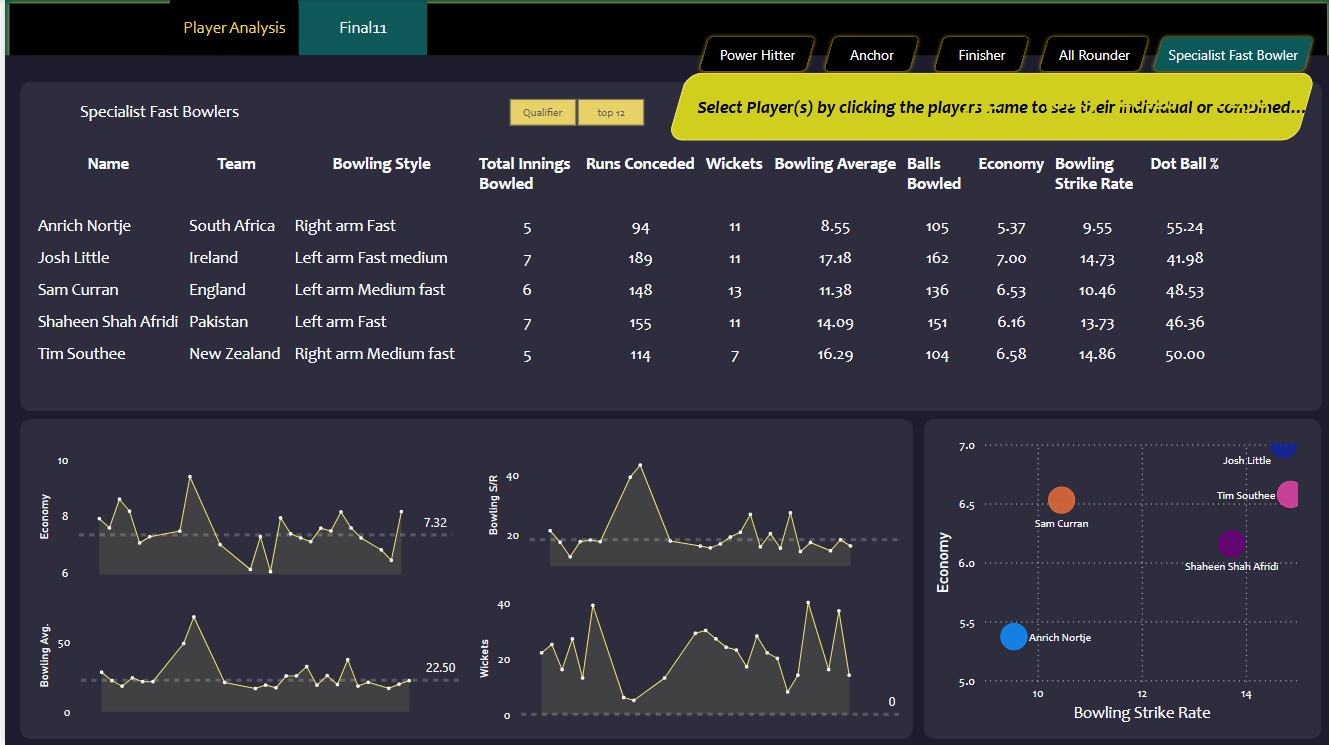

The page's visual inventory and layout, read from the dashboard file:
{"tool":"powerbi","page":{"name":"New Specialist Fast Bowler/Tail end","canvas":[1280,720],"ordinal":4},"visuals":[{"type":"shape","box":[0,0,1280,76],"z":0},{"type":"shape","box":[0,54.3,1280,666.4],"z":1000},{"type":"shape","box":[0,79.3,1280,318.6],"z":2000},{"type":"shape","box":[13.9,79.3,1257.7,318.6],"z":3000},{"type":"shape","box":[887.1,405.1,384,308.9],"z":4000},{"type":"shape","box":[640,71,626.1,65.4],"z":5000},{"type":"slicer","fields":{"Values":["match result.state"]},"box":[460.5,89,180,40],"z":10000},{"type":"shape","box":[72.3,89,173.9,39],"z":11000},{"type":"shape","box":[666.4,86.3,194.8,44.5],"z":12000},{"type":"shape","box":[13.9,404.9,862,308.9],"z":13000},{"type":"areaChart","fields":{"Y":["Key_Measure.Wickets"],"Category":["match result.matchDate.Variation.Date Hierarchy.Day"]},"box":[452.8,566.7,417.2,137.2],"z":14000},{"type":"areaChart","fields":{"Category":["match result.matchDate.Variation.Date Hierarchy.Day"],"Y":["Key_Measure.Bowling Strike Rate"]},"box":[460.5,416,409,136.3],"z":15000},{"type":"areaChart","fields":{"Category":["match result.matchDate.Variation.Date Hierarchy.Day"],"Y":["Key_Measure.Economy"]},"box":[27.4,430.9,408.9,135.8],"z":16000},{"type":"areaChart","fields":{"Category":["match result.matchDate.Variation.Date Hierarchy.Day"],"Y":["Key_Measure.Bowling Average"]},"box":[27.8,566.3,417.4,136.3],"z":17000},{"type":"actionButton","box":[159.3,0,124.3,54.3],"z":18000},{"type":"actionButton","box":[283.5,0,124.3,54.3],"z":19000},{"type":"actionButton","box":[666,32.6,120.6,41],"z":20000},{"type":"actionButton","box":[892.8,32.6,100.1,41],"z":21000},{"type":"actionButton","box":[994.1,32.6,114.6,41],"z":22000},{"type":"actionButton","box":[1103.9,32.6,162.9,41],"z":23000},{"type":"actionButton","box":[786.6,32.6,100.1,41],"z":24000},{"type":"shape","box":[649.1,82.3,610.6,43.9],"z":25000},{"type":"tableEx","fields":{"Values":["player info.name","player info.team","player info.bowlingStyle","Key_Measure.Total Innings Bowled","Key_Measure.Runs Conceded","Key_Measure.Wickets","Key_Measure.Bowling Average","Key_Measure.Balls Bowled","Key_Measure.Economy","Key_Measure.Bowling Strike Rate","Key_Measure.Dot Ball %"]},"box":[20.6,137.2,1239.1,260.7],"z":26000},{"type":"scatterChart","fields":{"Category":["player info.name"],"Series":["player info.name"],"X":["Key_Measure.Bowling Strike Rate"],"Y":["Key_Measure.Economy"]},"box":[893.3,415.8,366.4,286.8],"z":27000},{"type":"card","fields":{"Values":["Key_Measure.Economy"]},"box":[902,73,82,66],"z":27001},{"type":"card","fields":{"Values":["Key_Measure.Bowling Average"]},"box":[1137.6,72.7,112.5,65.9],"z":27002},{"type":"card","fields":{"Values":["Key_Measure.Bowling Strike Rate"]},"box":[992,73,72,66],"z":27003},{"type":"card","fields":{"Values":["Key_Measure.Dot Ball %"]},"box":[1069,73,69,66],"z":27004}]}

Visuals, with their boxes in screenshot pixels (x1, y1, x2, y2), scaled from the page's 1280x720 canvas onto the 1329x745 screenshot:
shape: [left=0, top=0, right=1328, bottom=79]
shape: [left=0, top=56, right=1328, bottom=744]
shape: [left=0, top=82, right=1328, bottom=412]
shape: [left=14, top=82, right=1320, bottom=412]
shape: [left=921, top=419, right=1320, bottom=739]
shape: [left=664, top=73, right=1315, bottom=141]
slicer - match result.state: [left=478, top=92, right=665, bottom=133]
shape: [left=75, top=92, right=256, bottom=132]
shape: [left=692, top=89, right=894, bottom=135]
shape: [left=14, top=419, right=909, bottom=739]
areaChart - Key_Measure.Wickets x match result.matchDate.Variation.Date Hierarchy.Day: [left=470, top=586, right=903, bottom=728]
areaChart - match result.matchDate.Variation.Date Hierarchy.Day x Key_Measure.Bowling Strike Rate: [left=478, top=430, right=903, bottom=571]
areaChart - match result.matchDate.Variation.Date Hierarchy.Day x Key_Measure.Economy: [left=28, top=446, right=453, bottom=586]
areaChart - match result.matchDate.Variation.Date Hierarchy.Day x Key_Measure.Bowling Average: [left=29, top=586, right=462, bottom=727]
actionButton: [left=165, top=0, right=294, bottom=56]
actionButton: [left=294, top=0, right=423, bottom=56]
actionButton: [left=691, top=34, right=817, bottom=76]
actionButton: [left=927, top=34, right=1031, bottom=76]
actionButton: [left=1032, top=34, right=1151, bottom=76]
actionButton: [left=1146, top=34, right=1315, bottom=76]
actionButton: [left=817, top=34, right=921, bottom=76]
shape: [left=674, top=85, right=1308, bottom=131]
tableEx - player info.name x player info.team: [left=21, top=142, right=1308, bottom=412]
scatterChart - player info.name x player info.name: [left=927, top=430, right=1308, bottom=727]
card - Key_Measure.Economy: [left=937, top=76, right=1022, bottom=144]
card - Key_Measure.Bowling Average: [left=1181, top=75, right=1298, bottom=143]
card - Key_Measure.Bowling Strike Rate: [left=1030, top=76, right=1105, bottom=144]
card - Key_Measure.Dot Ball %: [left=1110, top=76, right=1182, bottom=144]
